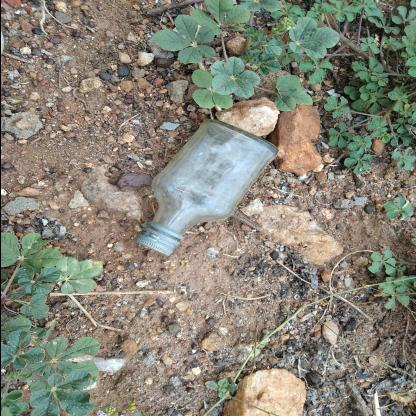bottle: (23, 206, 207, 318)
